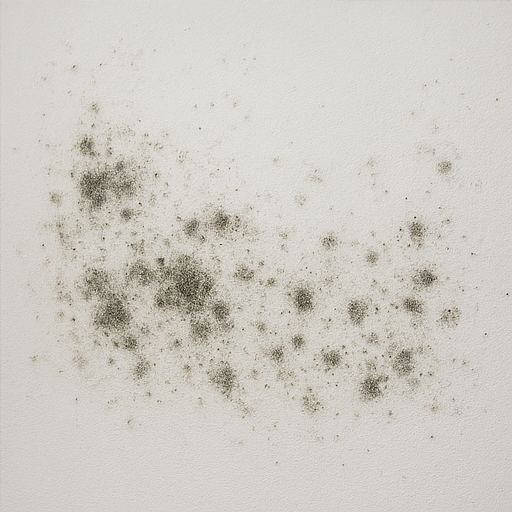schimmel: (340, 256, 462, 418), (56, 148, 152, 227), (139, 251, 239, 321), (69, 287, 142, 354), (282, 274, 336, 325)
